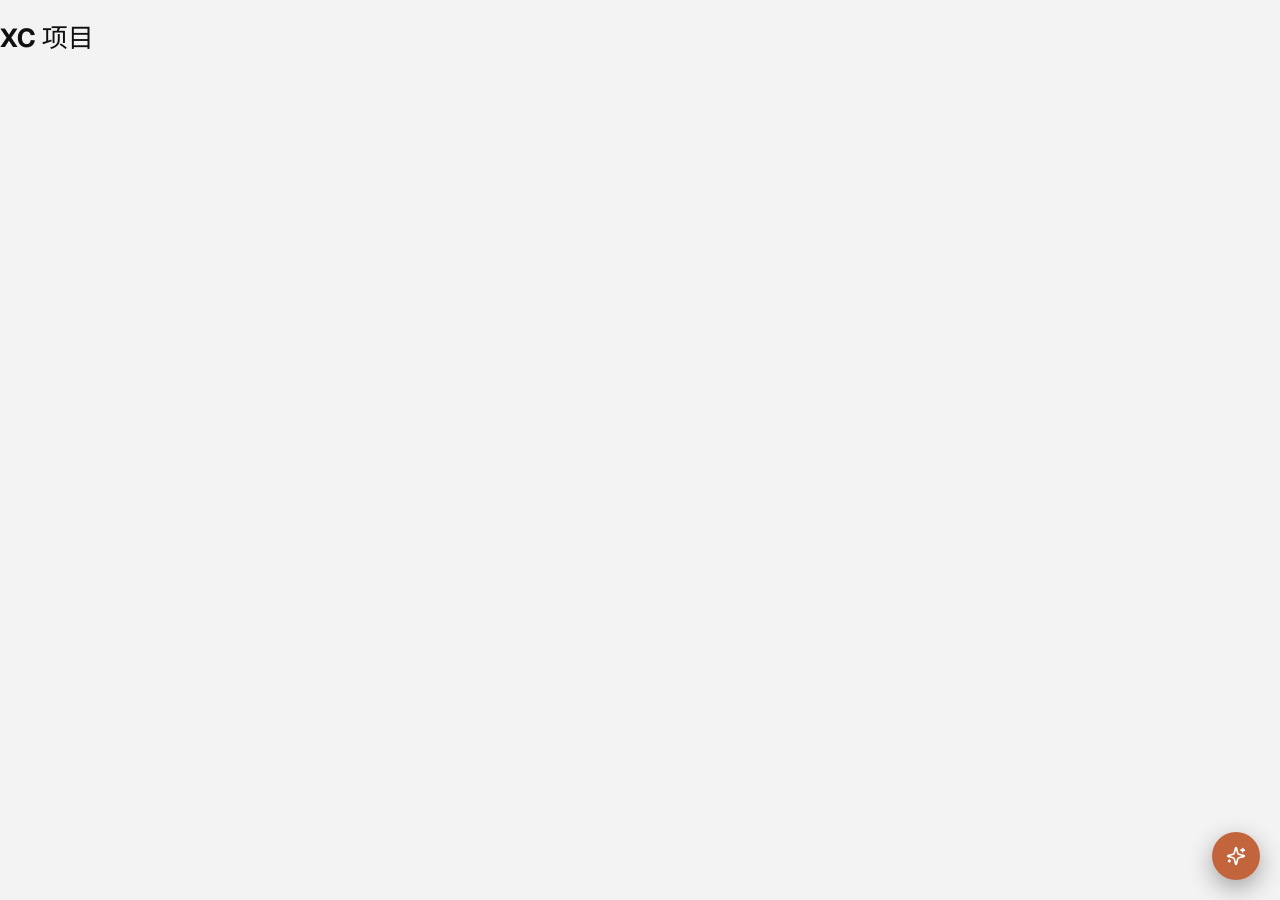
Test case: assistant panel › opens with ⌘J and says when the server has no assistant
Press j
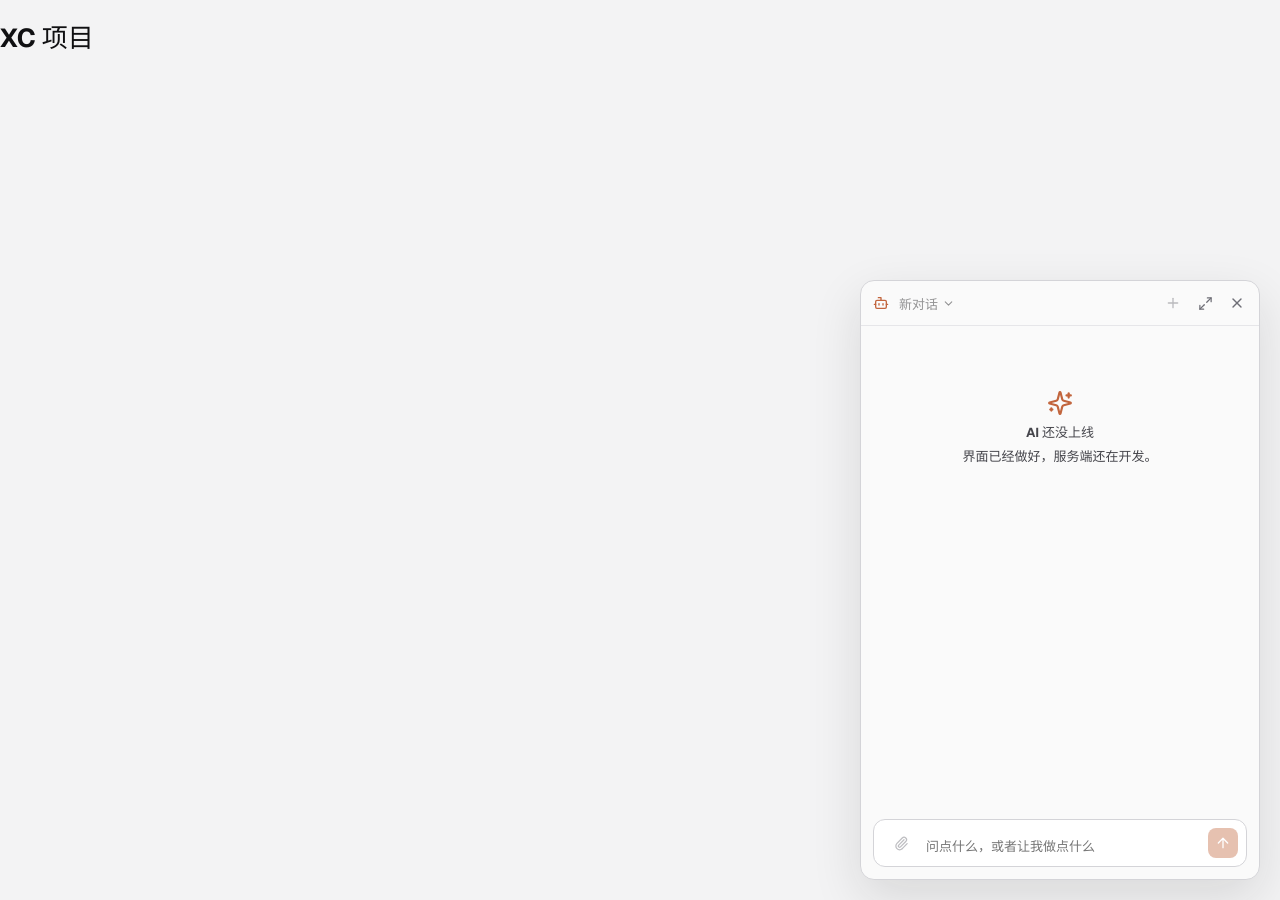
Now the text "AI 还没上线" is shown, box [1026, 422, 1094, 441]
Click the button named "关闭" at coordinates (1237, 303), box [1223, 289, 1251, 317]
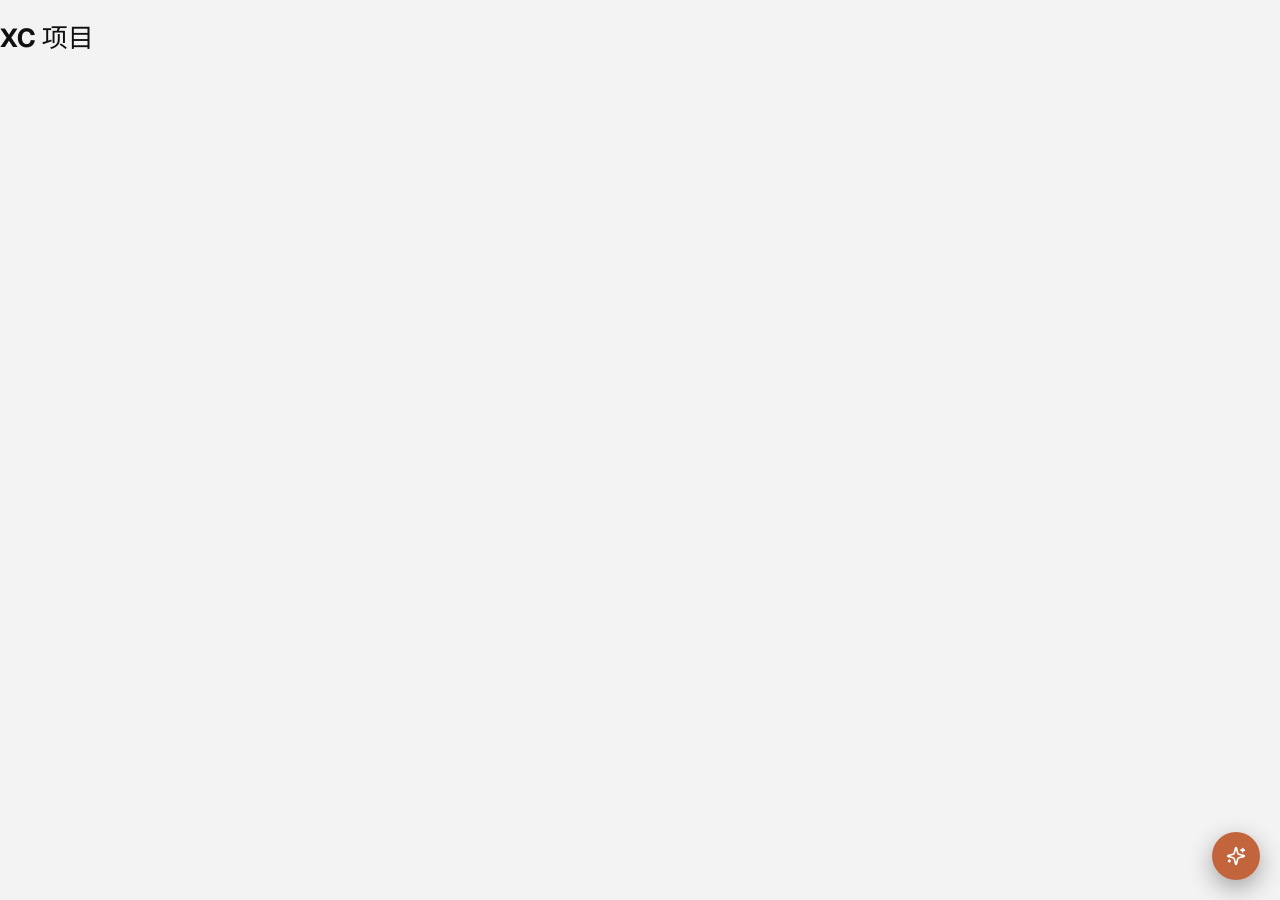
Now the button named "AI" is shown, box [1212, 832, 1260, 880]
